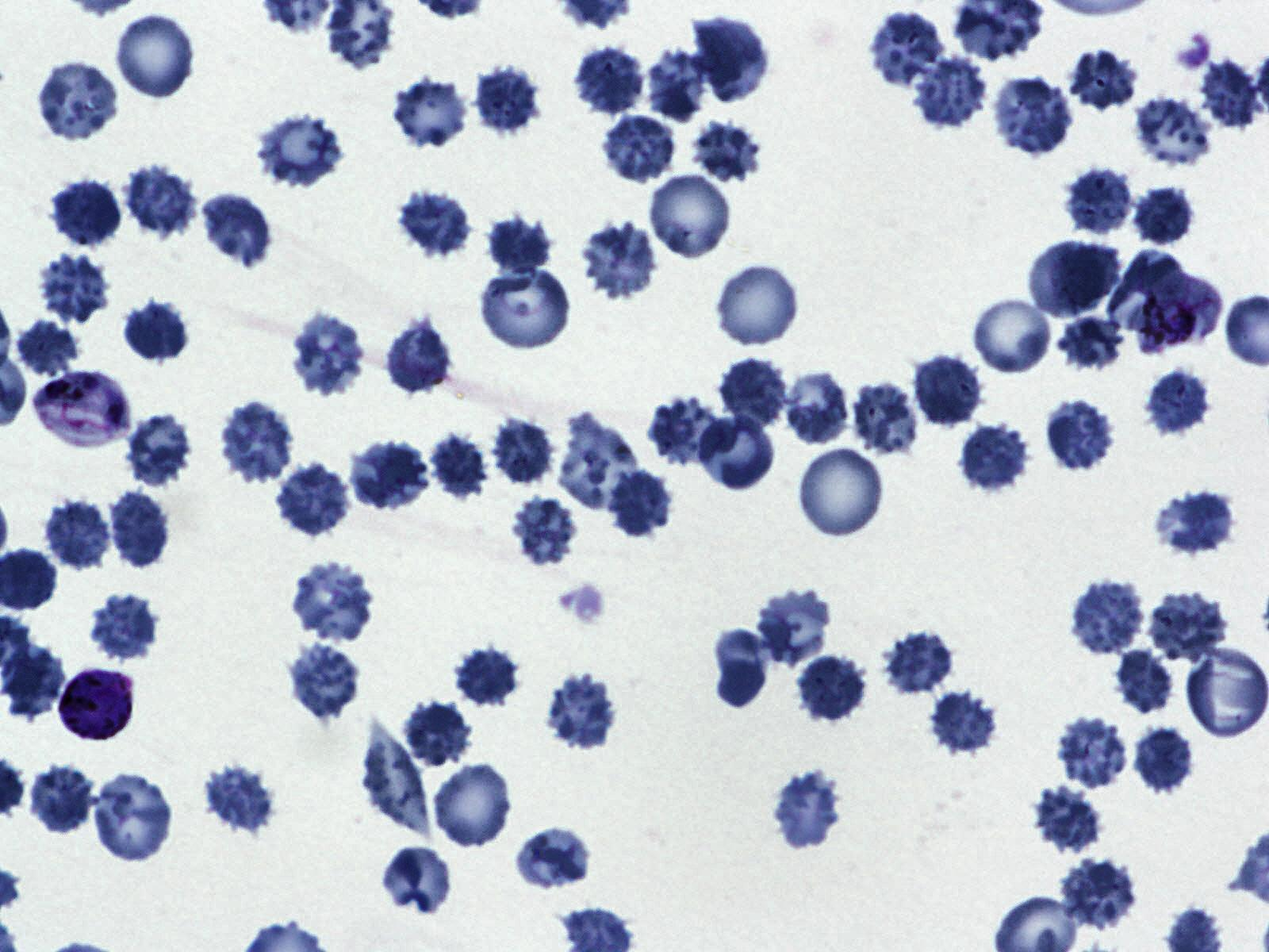Infected: (33, 367, 131, 453), (1134, 271, 1225, 352), (59, 667, 135, 738)
Uninfected: (796, 444, 887, 541), (364, 720, 433, 845), (480, 263, 573, 351), (1183, 647, 1269, 739), (89, 773, 174, 866), (647, 172, 734, 262), (559, 413, 640, 509), (115, 10, 197, 102), (715, 261, 801, 348), (432, 761, 514, 850), (287, 559, 374, 641), (255, 110, 344, 189), (36, 60, 121, 142), (285, 310, 366, 396), (1030, 238, 1117, 317), (971, 295, 1056, 374), (696, 410, 776, 493), (868, 9, 948, 91), (389, 74, 471, 152), (695, 17, 769, 102), (992, 78, 1073, 155), (542, 670, 619, 751), (1106, 251, 1183, 332), (1154, 485, 1237, 559), (378, 843, 458, 919), (220, 401, 294, 483), (33, 249, 113, 324), (1130, 95, 1213, 167), (911, 52, 990, 127), (847, 378, 919, 460), (398, 186, 477, 260), (286, 641, 360, 720), (471, 57, 545, 136), (770, 770, 843, 850), (585, 225, 665, 298), (648, 394, 725, 469), (198, 190, 272, 268), (717, 355, 792, 431), (121, 163, 196, 239), (758, 589, 833, 665), (514, 821, 594, 892), (0, 639, 67, 723), (1071, 579, 1144, 655), (573, 44, 646, 120), (1056, 714, 1129, 790), (1043, 396, 1114, 474), (385, 317, 455, 396), (784, 367, 852, 448), (276, 464, 350, 538), (121, 294, 196, 367), (197, 761, 275, 831), (50, 175, 123, 249), (789, 655, 865, 726), (1149, 592, 1226, 662), (959, 421, 1033, 493), (42, 497, 112, 573), (1144, 363, 1214, 439), (349, 443, 427, 511), (602, 113, 677, 183), (125, 411, 194, 487), (926, 686, 999, 755), (509, 494, 577, 568), (491, 411, 558, 486), (111, 492, 175, 570), (912, 353, 980, 426), (28, 763, 95, 836), (1023, 787, 1099, 850), (647, 48, 708, 124), (1132, 721, 1194, 795), (1064, 859, 1131, 927), (1199, 59, 1264, 129), (1067, 49, 1138, 113), (608, 472, 675, 539), (691, 123, 767, 182), (714, 629, 769, 710), (1066, 163, 1130, 232), (1130, 182, 1195, 248), (886, 629, 953, 693), (485, 214, 552, 278), (406, 697, 469, 765), (90, 593, 155, 658), (430, 430, 488, 500), (456, 644, 519, 707), (1114, 651, 1172, 715), (1055, 317, 1125, 370), (13, 322, 79, 378)
